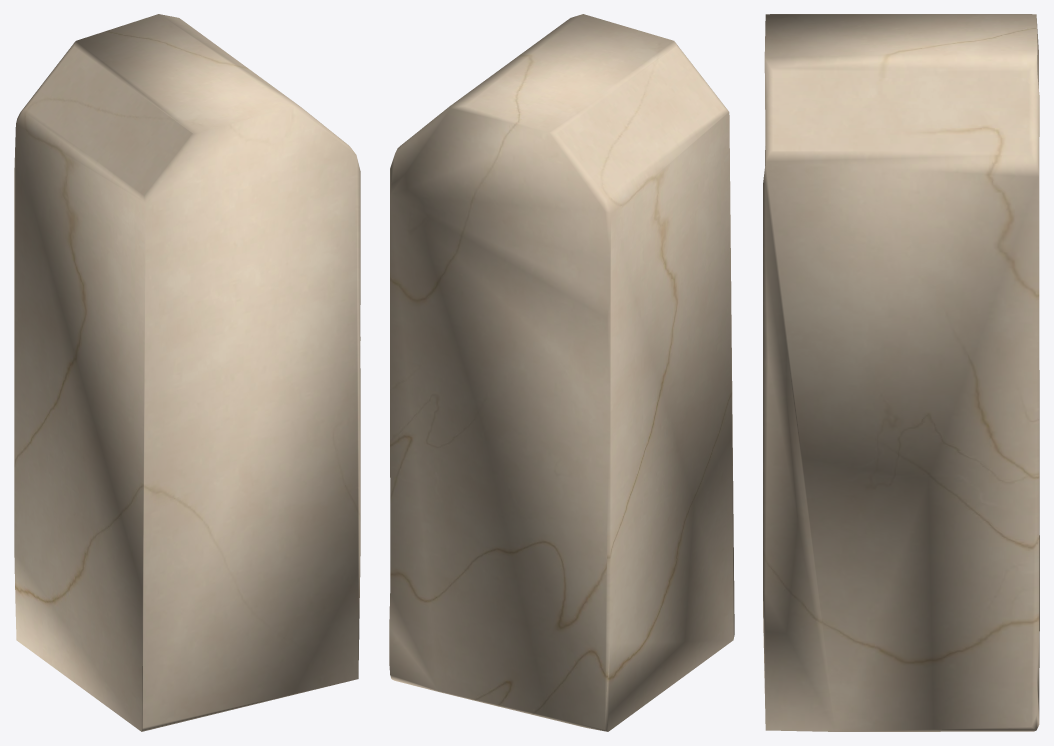
Rendered from pawn-white.glb.
The picture shows the model from 3 angles, left to right: view 1: azimuth 30°, elevation 25°; view 2: azimuth 150°, elevation 25°; view 3: azimuth 270°, elevation 25°; orthographic projection. The views are drawn at different scales.
Visible parts, largest first — view 1: pesec_bily; view 2: pesec_bily; view 3: pesec_bily.
Boxes of the visible parts, <box> form: pesec_bily: <box>14,14,360,731</box>; pesec_bily: <box>389,14,734,731</box>; pesec_bily: <box>763,14,1039,731</box>.
Size of the model in its own units: 0.4254 by 1.09 by 0.4248.
Materials: 1 (1 with a texture image).
